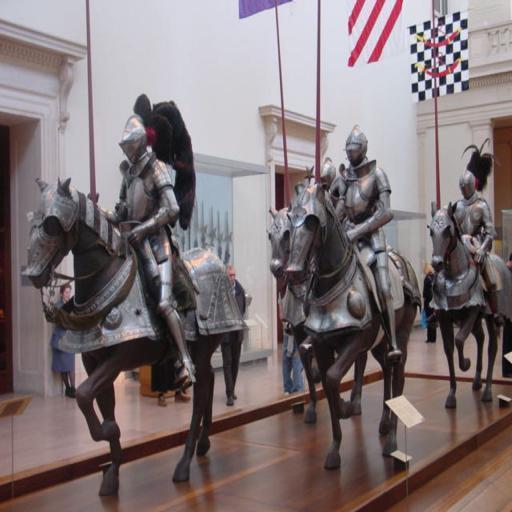horse: (26, 178, 230, 497), (282, 180, 422, 473), (266, 204, 368, 426), (427, 202, 511, 410)
